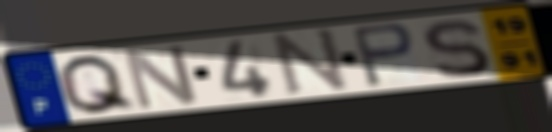4: (217, 37, 276, 100)
N: (271, 26, 352, 98), (120, 43, 202, 113)
P: (347, 21, 418, 89)
Q: (53, 52, 141, 116)
S: (418, 17, 494, 81)
